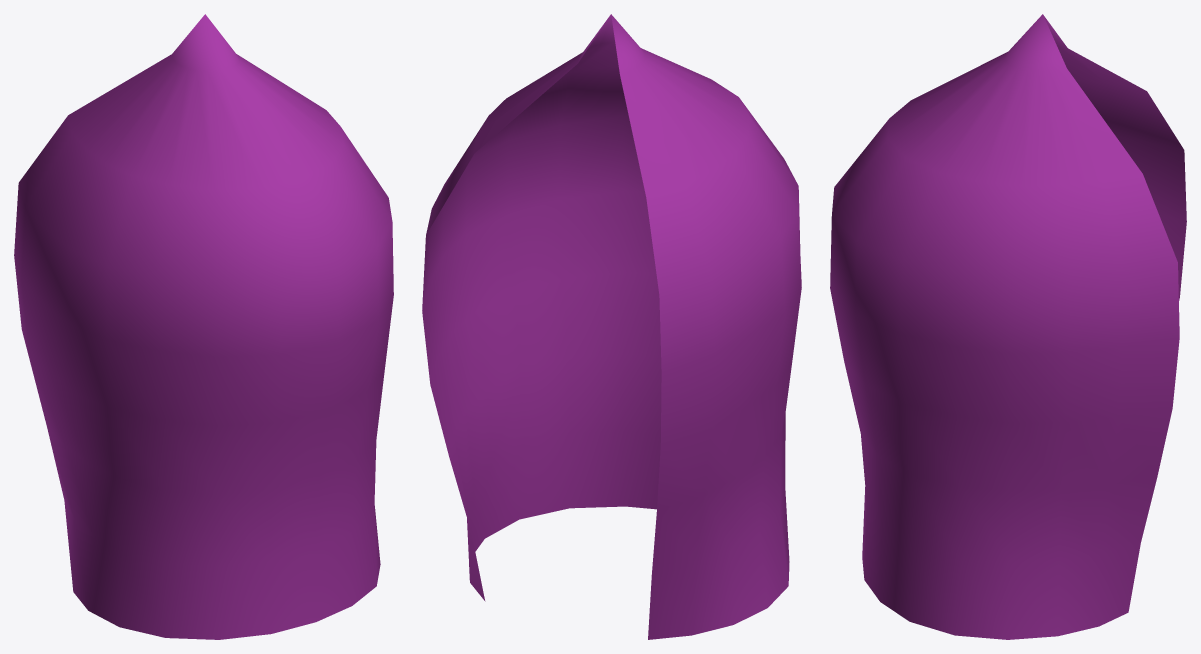
Rendered from nebula_helmet.glb.
3 renders of one model, left to right at view 1: azimuth 30°, elevation 25°; view 2: azimuth 150°, elevation 25°; view 3: azimuth 270°, elevation 25°, orthographic. The views are drawn at different scales.
Parts seen in each view (by area): view 1: nebula_helmet_head; view 2: nebula_helmet_head; view 3: nebula_helmet_head.
Part boxes in pixels (<box>): nebula_helmet_head: <box>14,14,393,639</box>; nebula_helmet_head: <box>422,14,801,639</box>; nebula_helmet_head: <box>830,14,1186,639</box>.
Bounding box in the file's own units: 0.2135 × 0.3679 × 0.2125.
